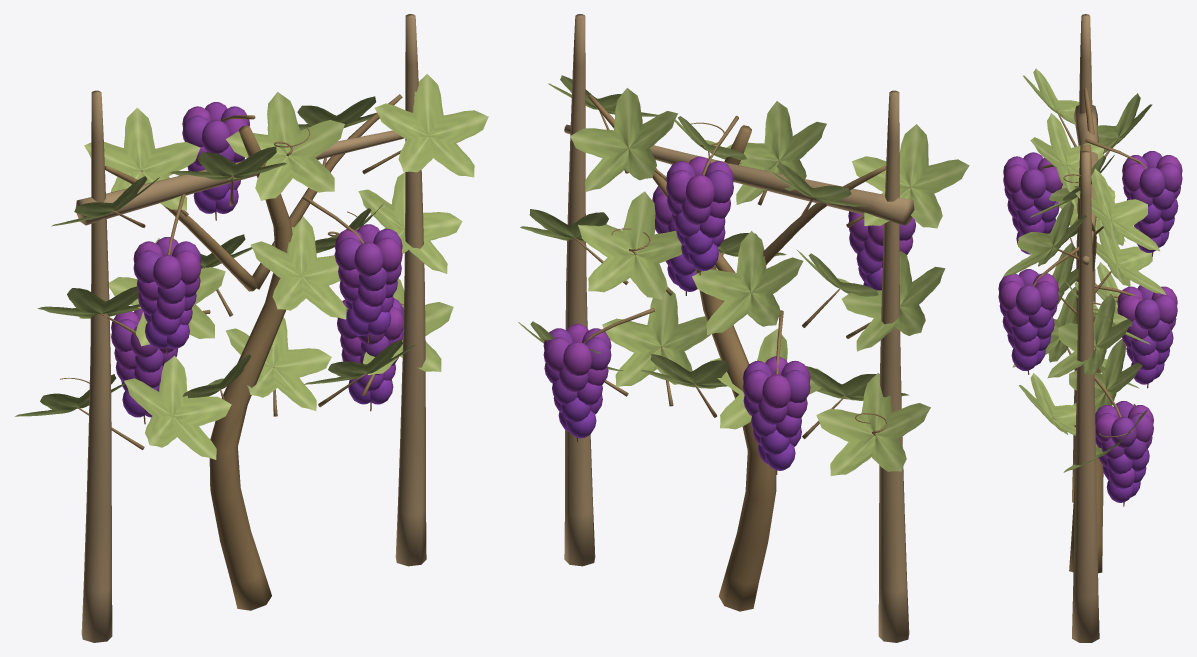
The model's file is grape_mature.glb.
The picture shows the model from 3 angles, left to right: view 1: azimuth 30°, elevation 25°; view 2: azimuth 150°, elevation 25°; view 3: azimuth 270°, elevation 25°; orthographic projection. The views are drawn at different scales.
Parts seen in each view (by area): view 1: leaves, stems, fruit; view 2: leaves, stems, fruit; view 3: fruit, leaves, stems.
Boxes of the visible parts, x1,y1,x2,y2 form: leaves: [14, 74, 488, 459]; stems: [60, 14, 429, 642]; fruit: [111, 102, 403, 417]; leaves: [518, 75, 969, 475]; stems: [543, 14, 914, 642]; fruit: [543, 156, 915, 470]; fruit: [998, 151, 1182, 502]; leaves: [1003, 68, 1165, 472]; stems: [1027, 14, 1153, 642].
Size of the model in its own units: 0.9046 by 1.14 by 0.3873.
